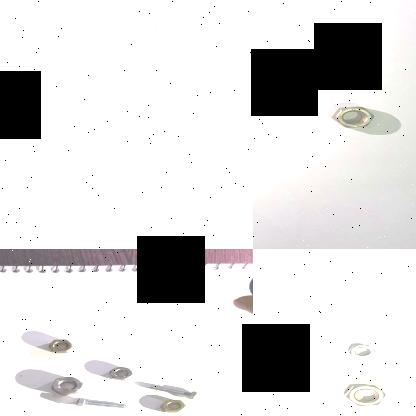Bolts: (146, 382, 200, 400), (72, 396, 128, 411)
NUTS: (333, 378, 397, 409), (328, 103, 382, 129), (338, 336, 384, 360), (333, 62, 370, 83), (48, 373, 83, 395), (44, 336, 78, 354), (106, 363, 135, 381), (156, 398, 186, 414)
